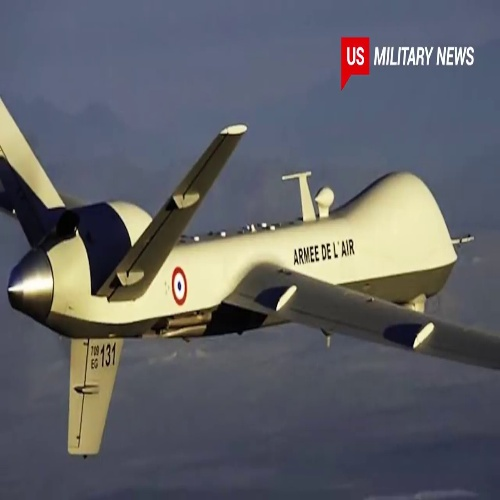uav290: (1, 94, 500, 456)
